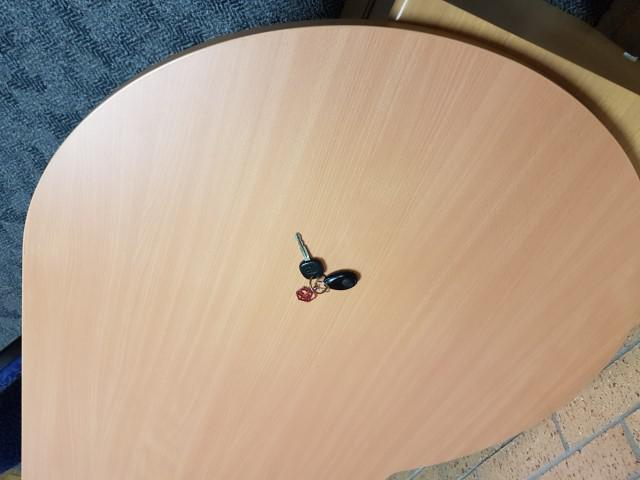key: (295, 232, 323, 279)
